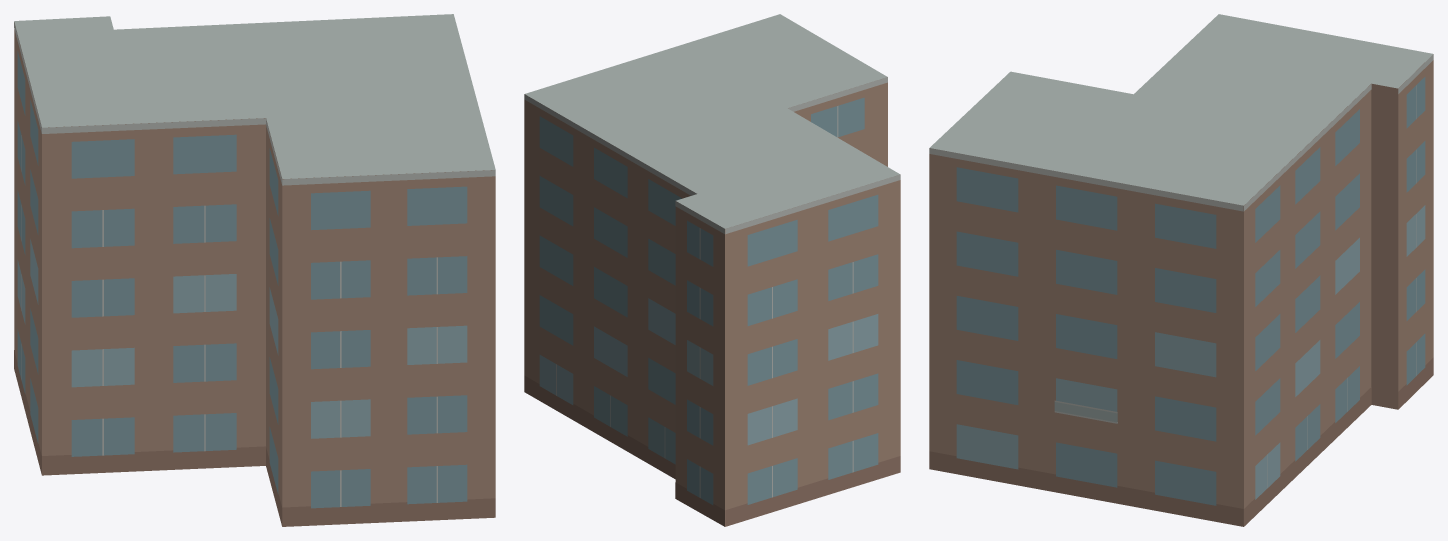
File: survey-upis-32534157.glb
3 renders of one model, left to right at view 1: azimuth 30°, elevation 25°; view 2: azimuth 150°, elevation 25°; view 3: azimuth 270°, elevation 25°, orthographic. The views are drawn at different scales.
Visible parts, largest first — view 1: survey-upis-32534157.tmp; view 2: survey-upis-32534157.tmp; view 3: survey-upis-32534157.tmp.
Boxes of the visible parts, x1,y1,x2,y2 form: survey-upis-32534157.tmp: (14,14,495,526); survey-upis-32534157.tmp: (524,14,900,526); survey-upis-32534157.tmp: (929,14,1433,526).
Bounding box in the file's own units: 16.9 × 13.2 × 18.79.
